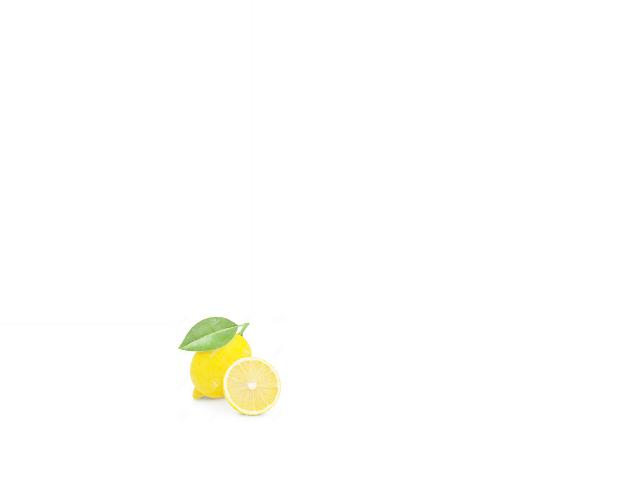lemon: (186, 323, 255, 402)
